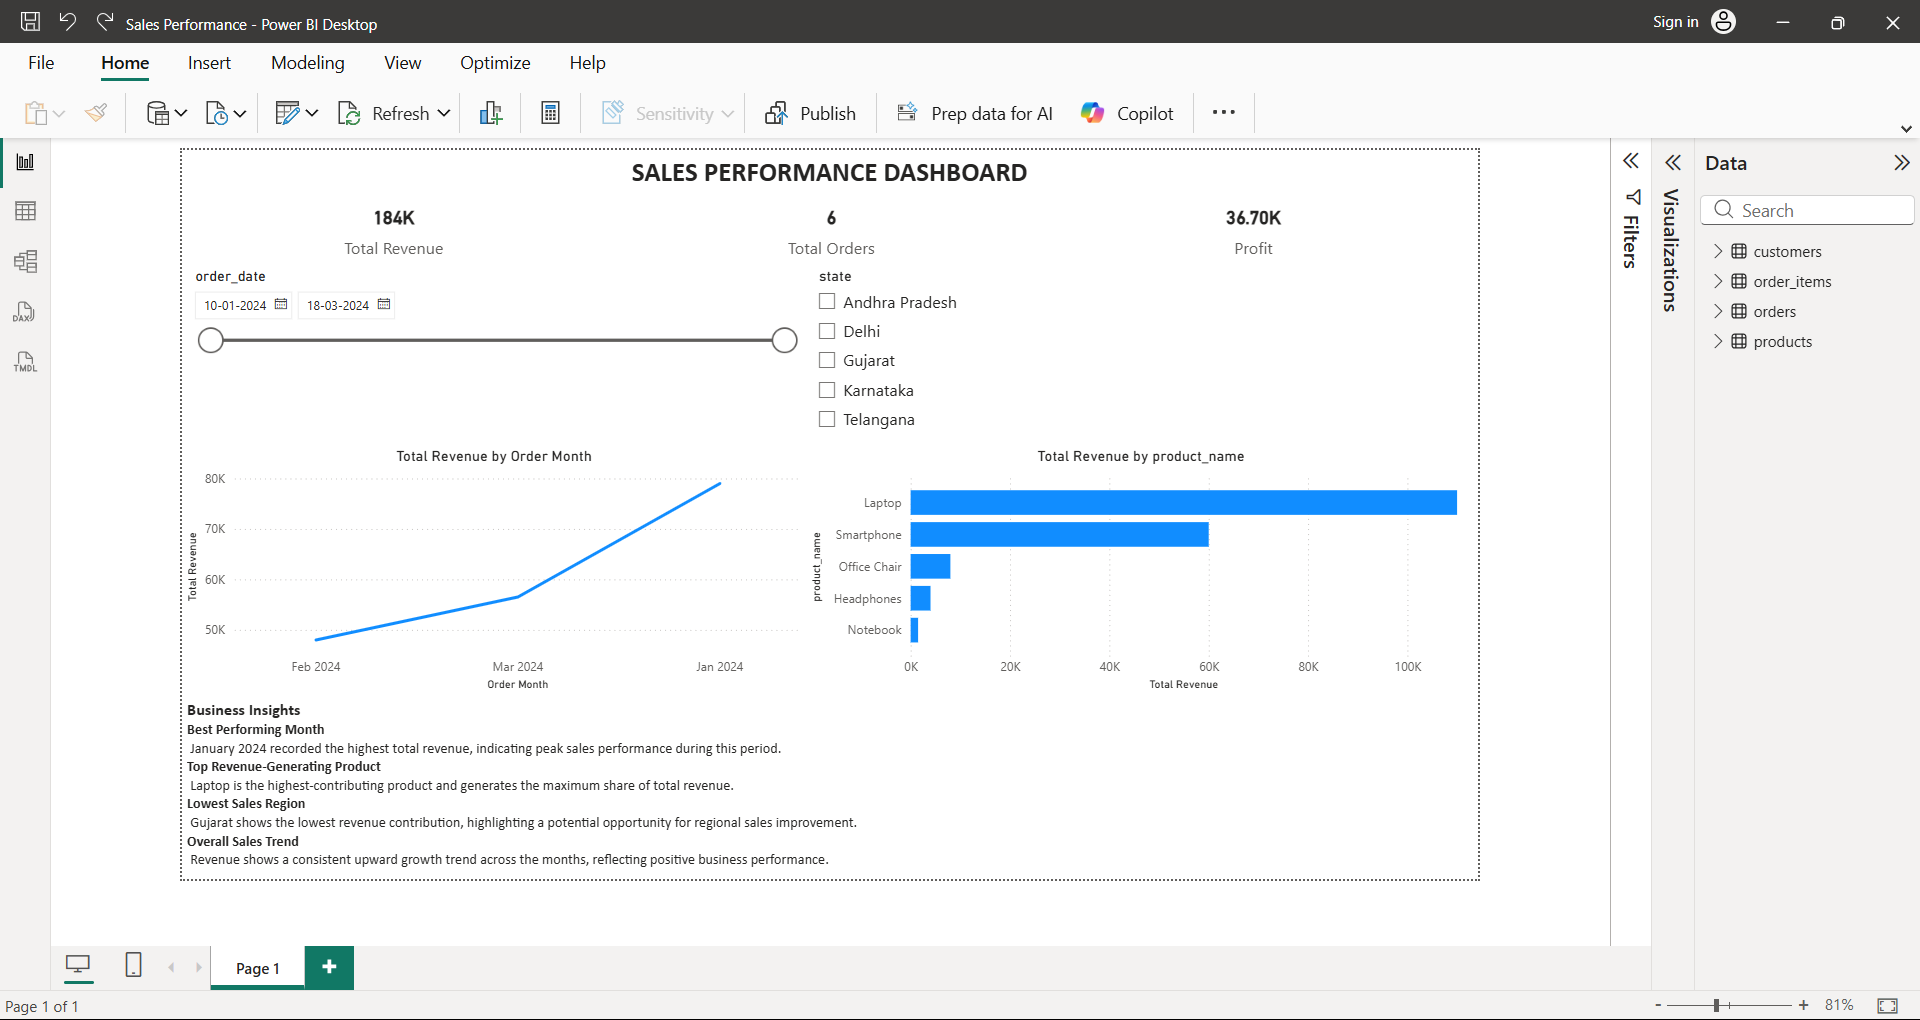

The page's visual inventory and layout, read from the dashboard file:
{"tool":"powerbi","page":{"name":"Page 1","canvas":[1280,720],"ordinal":0},"visuals":[{"type":"textbox","box":[0,0,1279.4,45.4],"z":0},{"type":"card","fields":{"Values":["order_items.Total Revenue"]},"box":[0,45.4,418.7,64.4],"z":1000},{"type":"card","fields":{"Values":["orders.Total Orders"]},"box":[427,45.7,428.8,65],"z":2000},{"type":"card","fields":{"Values":["order_items.Profit"]},"box":[836.5,45.7,442.8,65],"z":3000},{"type":"slicer","fields":{"Values":["orders.order_date"]},"box":[0,111.3,616.3,182.2],"z":4000},{"type":"slicer","fields":{"Values":["customers.state"]},"box":[616.3,111.3,662.8,182.2],"z":5000},{"type":"lineChart","fields":{"Category":["orders.Order Month"],"Y":["order_items.Total Revenue"]},"box":[0,293.8,616.2,245],"z":6000},{"type":"clusteredBarChart","fields":{"Category":["products.product_name"],"Y":["order_items.Total Revenue"]},"box":[616.2,293.8,662.5,245],"z":7000},{"type":"textbox","box":[0,538.8,1278.8,180],"z":8000}]}

Visuals, with their boxes on the page's 1280x720 design canvas (x1, y1, x2, y2). These are canvas units, not pixel positions in the 1920x1020 screenshot, which may show the page scaled, cropped or inside an application window:
textbox: {"x1": 0, "y1": 0, "x2": 1279, "y2": 45}
card - order_items.Total Revenue: {"x1": 0, "y1": 45, "x2": 419, "y2": 110}
card - orders.Total Orders: {"x1": 427, "y1": 46, "x2": 856, "y2": 111}
card - order_items.Profit: {"x1": 836, "y1": 46, "x2": 1279, "y2": 111}
slicer - orders.order_date: {"x1": 0, "y1": 111, "x2": 616, "y2": 294}
slicer - customers.state: {"x1": 616, "y1": 111, "x2": 1279, "y2": 294}
lineChart - orders.Order Month x order_items.Total Revenue: {"x1": 0, "y1": 294, "x2": 616, "y2": 539}
clusteredBarChart - products.product_name x order_items.Total Revenue: {"x1": 616, "y1": 294, "x2": 1279, "y2": 539}
textbox: {"x1": 0, "y1": 539, "x2": 1279, "y2": 719}
